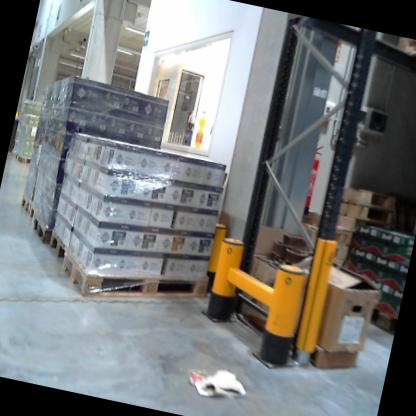pallet: (58, 242, 212, 323), (42, 225, 72, 273), (28, 207, 59, 246), (365, 303, 398, 337), (397, 38, 416, 67), (16, 193, 37, 216), (16, 151, 38, 167), (28, 203, 40, 225), (8, 148, 17, 158), (12, 151, 19, 161)
